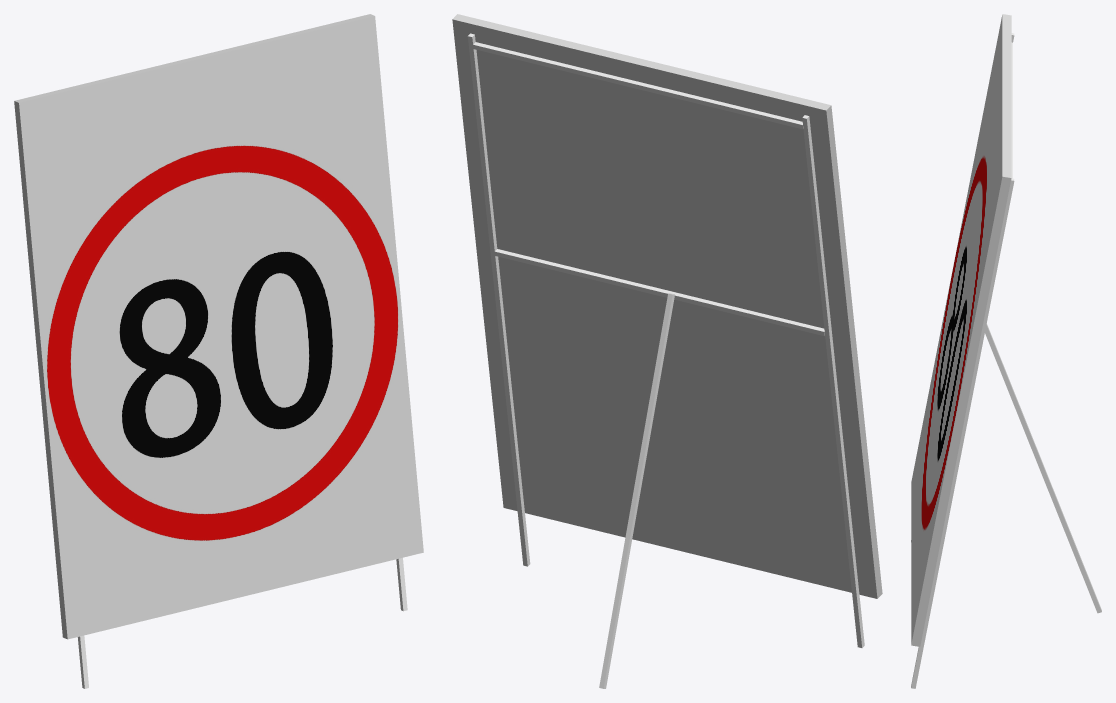
3 renders of one model, left to right at view 1: azimuth 30°, elevation 25°; view 2: azimuth 150°, elevation 25°; view 3: azimuth 270°, elevation 25°, orthographic. The views are drawn at different scales.
Parts seen in each view (by area): view 1: 立方体-材质.3, 立方体-材质.5; view 2: 立方体-材质.5, 立方体.4, 立方体.3, 立方体.7, 立方体.5, 立方体.6; view 3: 立方体-材质.3, 立方体-材质.5, 立方体.3, 立方体.7.
Boxes of the visible parts, x1,y1,x2,y2 form: 立方体-材质.3: [19, 16, 423, 639]; 立方体-材质.5: [14, 14, 374, 639]; 立方体-材质.5: [452, 14, 882, 598]; 立方体.4: [802, 115, 864, 647]; 立方体.3: [468, 33, 530, 566]; 立方体.7: [599, 293, 674, 688]; 立方体.5: [469, 42, 803, 129]; 立方体.6: [491, 249, 824, 336]; 立方体-材质.3: [911, 15, 1002, 643]; 立方体-材质.5: [911, 14, 1011, 646]; 立方体.3: [911, 178, 1014, 688]; 立方体.7: [985, 323, 1101, 613].
Bounding box in the file's own units: 5.71 × 8.56 × 2.83.
Materials: 3 (1 with a texture image).
